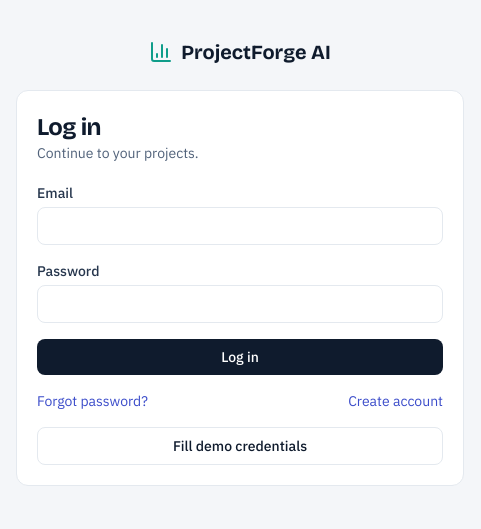
Scenario: login submits credentials and shows API error
Type "a@b.com" into the field labelled "Email" at {"x": 240, "y": 226}, box [37,207,443,245]
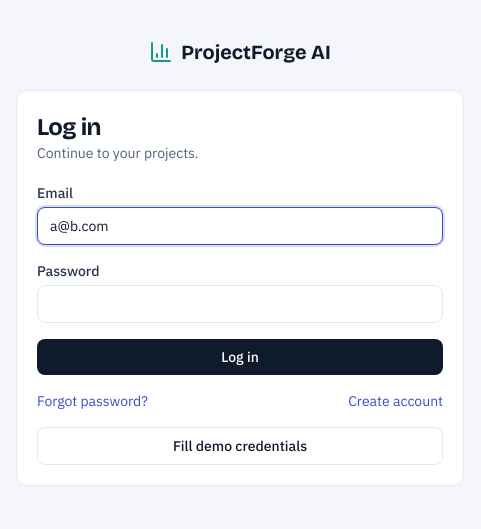
Type "secret123" into the password field labelled "Password" at {"x": 240, "y": 304}, box [37,285,443,323]
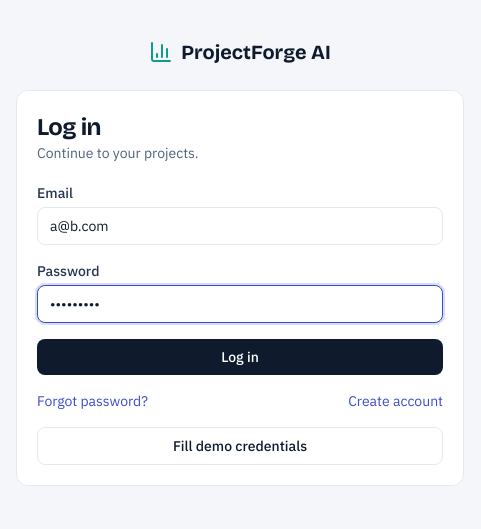
Click the button "Log in" at {"x": 240, "y": 357}, box [37,339,443,375]
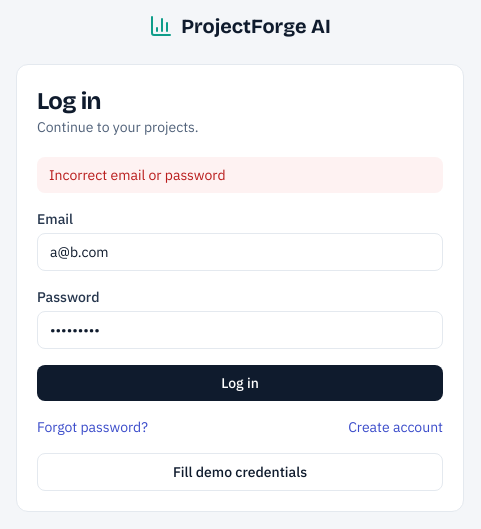
Expected: the message reads "Incorrect email or password", [49,166,226,184]
